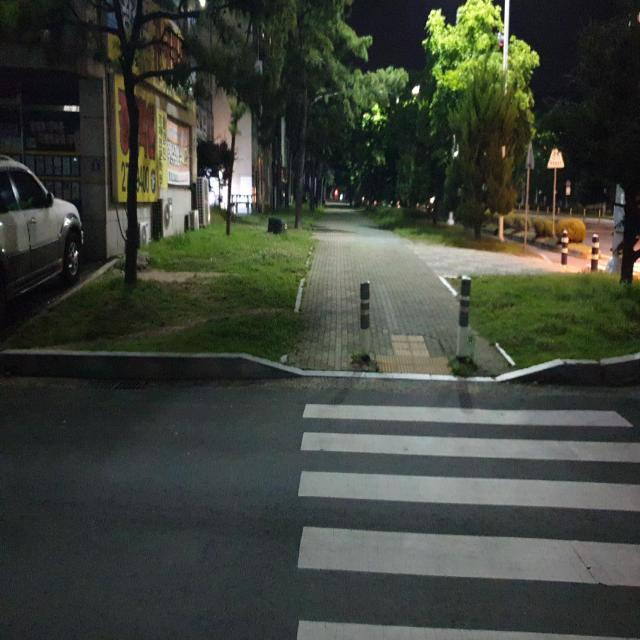횡단보도: (292, 397, 640, 640)
